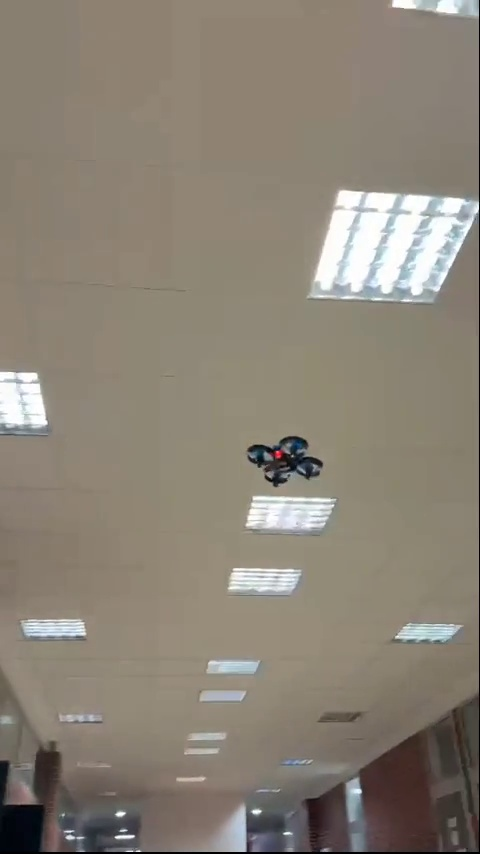drone: (245, 434, 325, 490)
